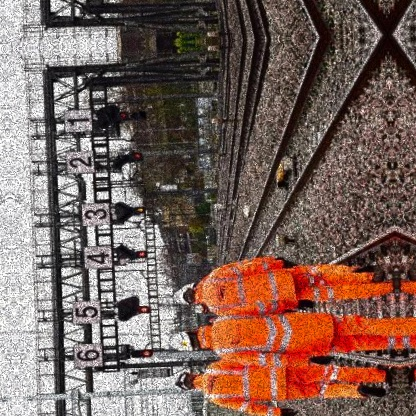vest: (209, 295, 335, 368), (198, 355, 292, 416), (195, 261, 295, 317)
white: (166, 326, 196, 358), (169, 372, 191, 394), (173, 284, 194, 306), (192, 303, 202, 316)
